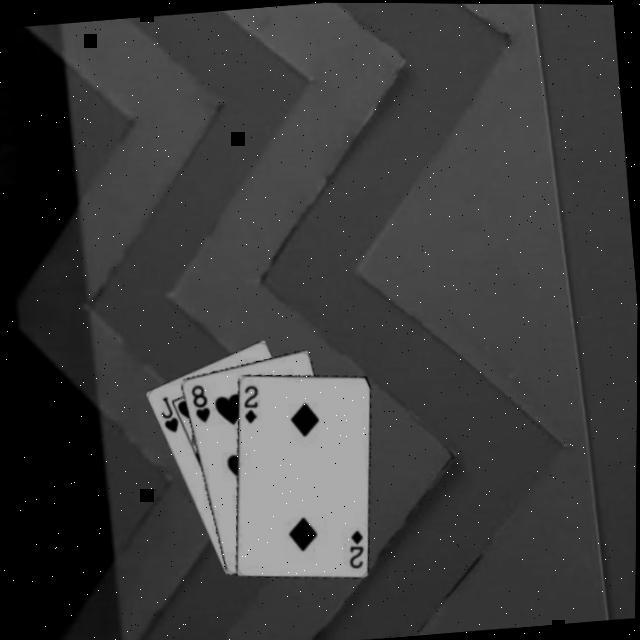2D: (239, 380, 263, 426), (343, 527, 367, 571)
8H: (186, 380, 212, 426)
JH: (155, 393, 181, 437)
